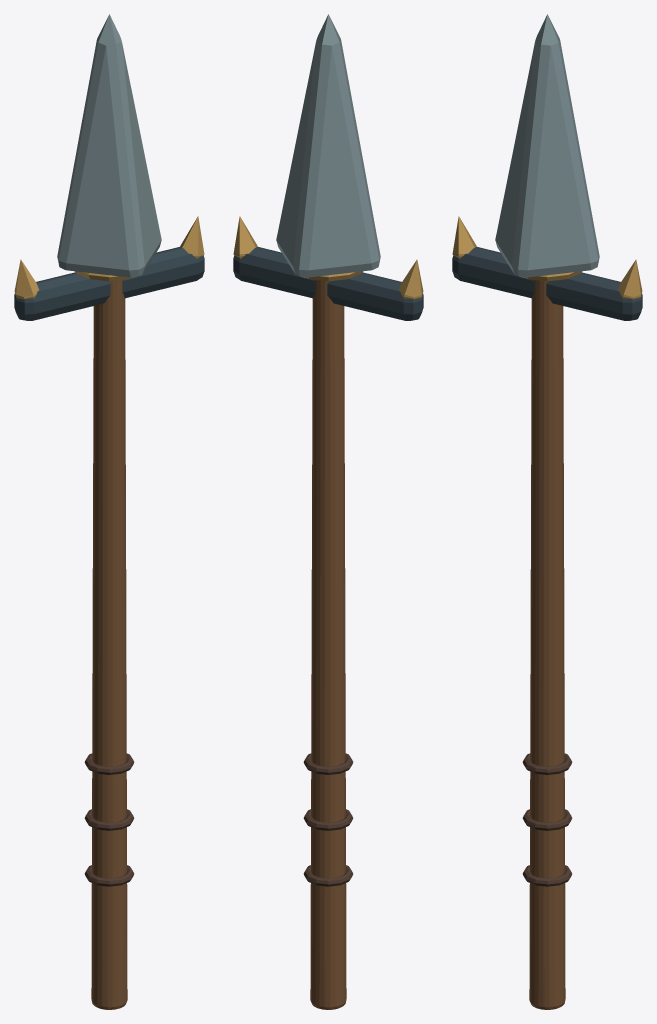
File: weapon_pike.glb
The picture shows the model from 3 angles, left to right: view 1: azimuth 30°, elevation 25°; view 2: azimuth 150°, elevation 25°; view 3: azimuth 330°, elevation 25°; orthographic projection.
Visible parts, largest first — view 1: IronwoodShaft, Spearhead, Crossguard, Grip, Hook; view 2: IronwoodShaft, Spearhead, Crossguard, Grip, Hook; view 3: IronwoodShaft, Spearhead, Crossguard, Grip, Hook.
Boxes of the visible parts, left/top/right/bottom form: IronwoodShaft: left=91, top=280, right=127, bottom=1009; Spearhead: left=57, top=14, right=161, bottom=277; Crossguard: left=14, top=247, right=204, bottom=320; Grip: left=84, top=753, right=134, bottom=886; Hook: left=14, top=216, right=204, bottom=299; IronwoodShaft: left=310, top=280, right=346, bottom=1009; Spearhead: left=276, top=14, right=380, bottom=277; Crossguard: left=233, top=247, right=423, bottom=320; Grip: left=303, top=753, right=353, bottom=886; Hook: left=233, top=216, right=423, bottom=299; IronwoodShaft: left=529, top=280, right=565, bottom=1009; Spearhead: left=495, top=14, right=599, bottom=277; Crossguard: left=452, top=247, right=642, bottom=320; Grip: left=522, top=753, right=572, bottom=886; Hook: left=452, top=216, right=642, bottom=299.
Size of the model in its own units: 0.4205 by 2.13 by 0.229.
